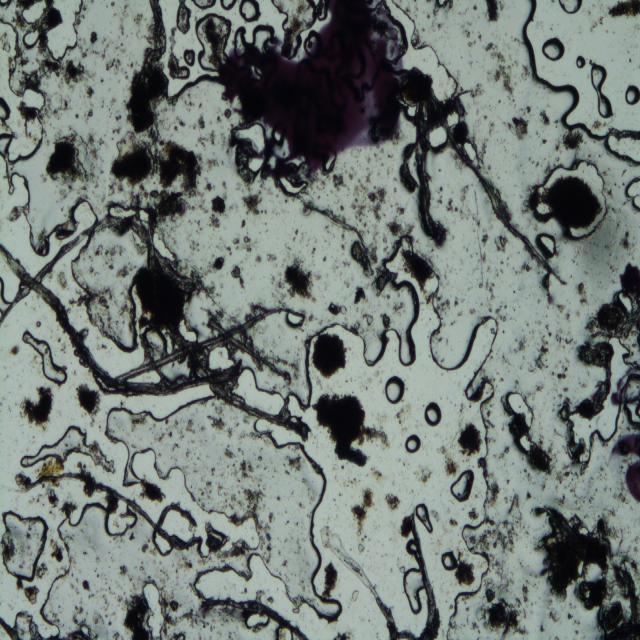Air bubble: (104, 402, 344, 624), (293, 247, 497, 434), (512, 0, 608, 160), (0, 128, 93, 254), (446, 409, 496, 640), (15, 499, 91, 640), (70, 231, 149, 354), (569, 332, 631, 468), (387, 0, 461, 101), (0, 20, 46, 163), (544, 157, 613, 246), (17, 424, 115, 474), (0, 505, 52, 579), (234, 364, 284, 415), (24, 332, 68, 387), (274, 0, 316, 55), (194, 13, 232, 69), (50, 0, 85, 60), (92, 503, 138, 541), (140, 577, 166, 640), (592, 62, 616, 121), (605, 134, 640, 170), (230, 120, 266, 154), (506, 387, 534, 428), (402, 568, 424, 615), (448, 468, 476, 502), (206, 345, 234, 373), (620, 175, 640, 213), (278, 172, 306, 199), (174, 0, 194, 37), (383, 375, 407, 405), (165, 53, 191, 80), (174, 318, 200, 344), (428, 121, 448, 154), (541, 38, 567, 63), (22, 0, 45, 27), (251, 26, 273, 54), (415, 502, 434, 534), (422, 399, 442, 428), (245, 608, 269, 632), (537, 231, 559, 256), (154, 527, 172, 557), (241, 0, 263, 23), (284, 310, 305, 331), (461, 138, 477, 165), (622, 82, 640, 106), (438, 550, 458, 571), (532, 202, 553, 222), (247, 154, 267, 174), (405, 434, 423, 456), (618, 289, 634, 313), (558, 0, 583, 15), (0, 276, 10, 313), (22, 27, 40, 47), (274, 625, 294, 640), (518, 432, 532, 452), (188, 0, 216, 10), (404, 537, 416, 559), (218, 0, 238, 12), (576, 51, 586, 68), (0, 0, 10, 6)
Background material: (114, 305, 269, 380), (528, 500, 615, 612), (205, 311, 290, 376), (313, 391, 392, 453), (205, 443, 262, 512), (46, 128, 102, 194), (604, 550, 639, 640), (8, 374, 64, 427), (154, 138, 206, 194), (549, 175, 605, 226), (581, 298, 640, 340), (490, 489, 528, 554), (126, 66, 165, 129), (115, 136, 157, 193), (478, 594, 528, 640), (284, 252, 324, 307), (313, 329, 347, 380), (148, 188, 196, 223), (526, 321, 557, 375), (89, 244, 137, 278), (540, 463, 580, 503), (72, 374, 106, 421), (489, 48, 516, 106), (255, 347, 295, 386), (402, 248, 434, 286), (123, 590, 149, 636), (527, 437, 555, 477), (99, 32, 125, 75), (133, 474, 166, 507), (349, 490, 373, 533), (457, 421, 485, 457), (350, 178, 369, 230), (436, 295, 465, 328), (74, 381, 100, 417), (71, 602, 95, 640), (559, 395, 593, 421), (74, 284, 112, 306), (368, 185, 390, 222), (41, 1, 65, 34), (504, 114, 532, 142), (320, 560, 340, 599), (269, 268, 287, 311), (483, 572, 507, 602), (456, 552, 476, 588), (569, 422, 587, 461), (261, 513, 278, 554), (190, 272, 213, 302), (208, 412, 236, 436), (440, 443, 460, 476), (36, 52, 63, 76), (537, 271, 555, 306), (63, 60, 85, 88), (608, 0, 639, 19), (349, 279, 370, 307), (242, 191, 262, 220), (200, 518, 218, 550), (24, 68, 46, 94), (509, 412, 531, 438), (564, 130, 588, 152), (16, 102, 40, 123), (448, 97, 469, 121), (13, 1, 29, 32), (227, 264, 245, 291), (470, 528, 492, 550), (484, 0, 506, 22), (398, 403, 418, 427), (246, 299, 264, 325), (509, 332, 530, 354), (49, 97, 69, 120), (452, 118, 470, 143), (329, 624, 357, 640), (10, 44, 30, 66), (381, 488, 401, 510), (610, 479, 626, 506), (22, 584, 40, 607), (556, 327, 574, 350), (378, 268, 394, 293), (232, 235, 253, 254), (619, 230, 637, 252), (413, 463, 431, 484), (486, 482, 501, 507), (204, 256, 226, 273), (398, 512, 412, 538), (431, 0, 455, 15), (132, 182, 144, 212), (44, 486, 60, 508), (118, 2, 128, 37), (285, 451, 300, 474), (586, 13, 604, 32), (576, 280, 589, 306), (489, 555, 505, 576), (478, 136, 489, 166), (54, 181, 72, 199), (106, 180, 124, 198), (368, 464, 384, 484), (331, 172, 347, 192), (511, 260, 531, 276), (195, 191, 209, 213), (484, 278, 498, 300), (210, 196, 228, 213), (330, 298, 348, 315), (207, 212, 223, 231), (591, 117, 611, 132), (168, 22, 178, 52), (183, 48, 197, 69), (118, 218, 135, 235), (428, 17, 446, 33), (390, 298, 406, 316), (0, 95, 10, 123), (55, 268, 68, 289), (7, 205, 23, 222), (388, 221, 404, 238), (498, 399, 513, 417), (516, 61, 530, 80), (546, 605, 560, 624), (496, 302, 509, 322), (262, 247, 278, 263), (537, 109, 552, 126), (470, 81, 485, 97), (0, 33, 12, 53), (169, 595, 181, 614), (205, 156, 219, 172), (493, 236, 507, 252), (606, 258, 620, 274), (196, 134, 209, 151), (469, 618, 482, 635), (60, 502, 78, 514), (499, 446, 514, 460), (553, 133, 563, 154), (236, 179, 252, 192), (184, 553, 195, 570), (339, 259, 353, 272), (477, 248, 487, 266), (612, 529, 624, 544), (184, 92, 194, 110), (84, 67, 96, 82), (134, 7, 146, 22), (188, 238, 200, 253), (459, 23, 471, 38), (480, 457, 490, 475), (364, 309, 374, 327), (56, 545, 64, 567), (85, 83, 95, 100), (426, 288, 436, 305), (349, 589, 361, 603), (116, 560, 128, 574), (8, 345, 22, 357), (204, 177, 216, 191), (522, 583, 530, 604), (598, 464, 608, 480), (82, 576, 92, 592), (527, 156, 541, 167), (354, 320, 364, 335), (488, 120, 497, 136), (84, 48, 100, 57), (89, 28, 98, 44), (193, 218, 202, 234), (469, 507, 479, 521), (357, 542, 369, 553), (448, 516, 459, 528), (552, 427, 564, 438), (69, 629, 81, 640), (523, 468, 533, 481), (196, 115, 206, 128), (512, 36, 525, 46), (480, 232, 490, 245), (412, 32, 420, 48), (383, 314, 391, 330), (608, 507, 617, 521), (140, 539, 148, 554), (209, 127, 215, 147), (501, 352, 511, 364), (580, 461, 588, 476), (347, 168, 356, 181), (176, 115, 185, 128), (108, 95, 114, 114), (223, 108, 233, 119), (484, 40, 494, 51), (85, 108, 94, 120), (610, 206, 622, 215), (487, 514, 496, 526), (446, 200, 454, 213), (225, 245, 235, 255), (267, 594, 277, 604), (438, 187, 443, 207), (572, 618, 582, 628), (523, 488, 533, 498), (484, 302, 493, 313), (412, 5, 420, 17), (563, 355, 571, 367), (397, 207, 405, 219), (606, 188, 614, 200), (442, 275, 450, 287), (521, 106, 531, 115), (487, 436, 497, 445), (347, 477, 357, 486), (574, 247, 582, 258), (556, 373, 568, 380), (340, 230, 346, 243), (435, 336, 443, 345), (536, 383, 544, 392), (294, 229, 300, 241), (80, 49, 88, 58), (339, 201, 345, 213), (558, 305, 566, 314), (465, 41, 475, 48), (588, 495, 595, 505), (513, 378, 520, 388), (567, 610, 573, 621), (540, 621, 545, 634), (469, 308, 477, 316), (564, 313, 572, 320), (340, 244, 347, 252), (578, 380, 586, 387), (372, 151, 380, 158), (379, 145, 385, 154), (114, 114, 120, 123), (240, 220, 246, 229), (615, 219, 621, 228), (463, 604, 470, 611), (112, 128, 120, 134), (534, 320, 542, 326), (504, 478, 510, 486), (498, 376, 504, 384), (561, 386, 569, 392), (383, 293, 391, 299), (222, 181, 228, 189), (478, 280, 484, 288), (540, 138, 548, 144), (490, 326, 495, 335), (387, 153, 393, 160), (576, 308, 581, 316), (448, 603, 453, 611), (555, 119, 560, 127), (111, 2, 117, 8), (482, 376, 488, 382), (324, 254, 328, 263), (583, 270, 589, 276), (475, 109, 481, 115), (603, 483, 607, 492), (597, 153, 603, 159), (130, 62, 136, 68), (426, 13, 431, 20), (602, 170, 607, 177), (198, 103, 203, 110), (445, 337, 449, 345), (254, 258, 262, 262), (621, 168, 625, 176), (462, 10, 468, 15), (479, 300, 484, 306), (74, 113, 80, 118), (550, 371, 556, 376), (486, 411, 491, 417), (489, 355, 493, 362), (478, 33, 482, 40), (492, 375, 496, 382), (474, 4, 478, 11), (425, 0, 432, 4), (394, 186, 398, 193), (574, 628, 578, 635), (98, 79, 105, 83), (483, 115, 488, 120), (440, 357, 444, 363), (501, 328, 505, 334), (174, 126, 178, 132), (512, 306, 516, 312), (536, 298, 540, 304), (611, 280, 617, 284), (536, 130, 540, 135), (459, 87, 463, 92), (500, 270, 505, 274), (500, 260, 504, 264), (552, 408, 556, 412), (574, 262, 578, 266), (394, 176, 398, 180), (568, 274, 572, 278), (613, 182, 617, 186), (572, 260, 576, 264), (565, 367, 568, 372), (475, 252, 478, 256), (558, 403, 561, 407), (262, 210, 266, 213), (553, 396, 556, 400), (470, 254, 473, 258), (589, 152, 591, 158), (622, 183, 625, 186), (546, 314, 548, 318), (467, 249, 469, 252), (520, 367, 522, 370), (562, 365, 564, 368), (513, 290, 515, 293), (499, 102, 501, 105)
Cellulose filter fibre: (0, 234, 306, 440), (0, 240, 304, 437), (1, 209, 196, 323), (443, 118, 557, 280), (321, 508, 440, 640), (400, 96, 451, 248), (294, 194, 378, 258), (132, 0, 162, 147), (607, 124, 640, 145)
Fragment: (333, 442, 369, 466)
Pen: (214, 2, 406, 182), (611, 430, 640, 500)
